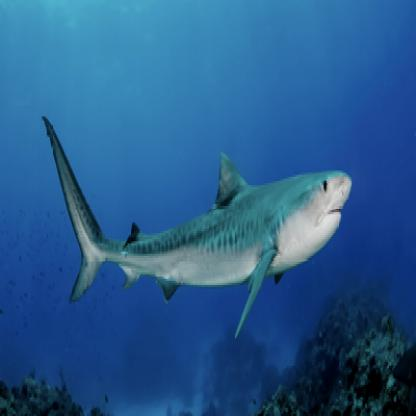shark: (43, 116, 353, 342)
